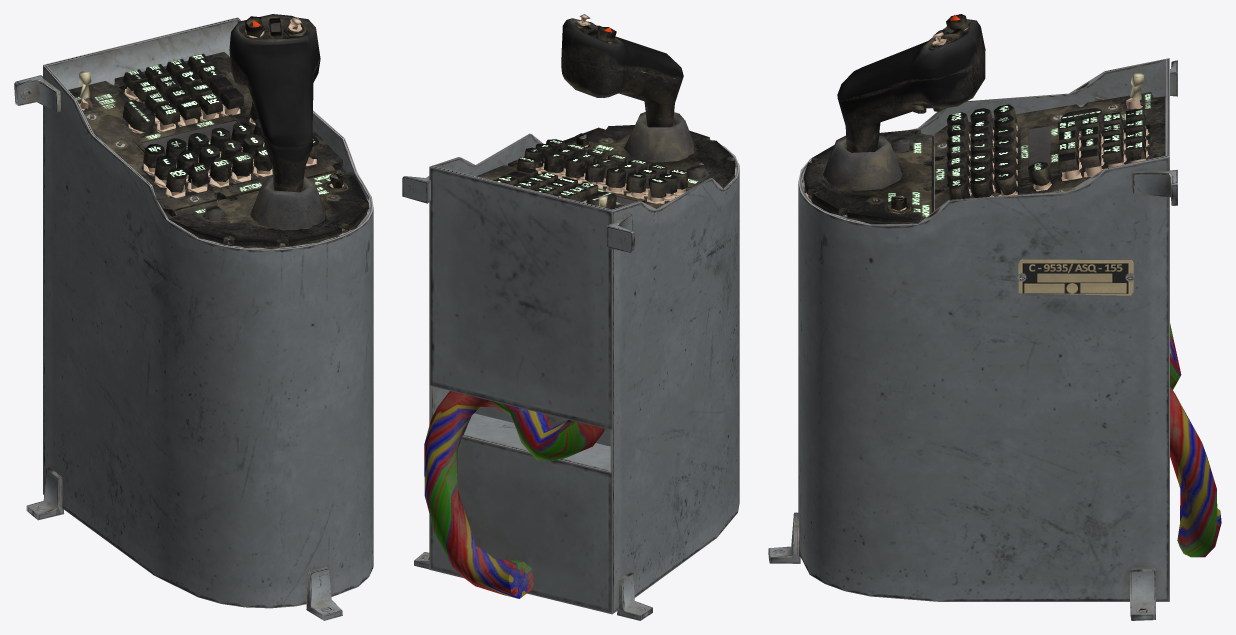
The model's file is ip_asq.glb.
3 renders of one model, left to right at view 1: azimuth 30°, elevation 25°; view 2: azimuth 150°, elevation 25°; view 3: azimuth 270°, elevation 25°, orthographic. The views are drawn at different scales.
Visible parts, largest first — view 1: O_ip_asq__Body; view 2: O_ip_asq__Body; view 3: O_ip_asq__Body.
Boxes of the visible parts, x1,y1,x2,y2 form: O_ip_asq__Body: [14, 14, 373, 620]; O_ip_asq__Body: [402, 14, 739, 620]; O_ip_asq__Body: [768, 14, 1221, 620].
Size of the model in its own units: 0.741 by 1.53 by 1.14.
1 material, 1 textured.
